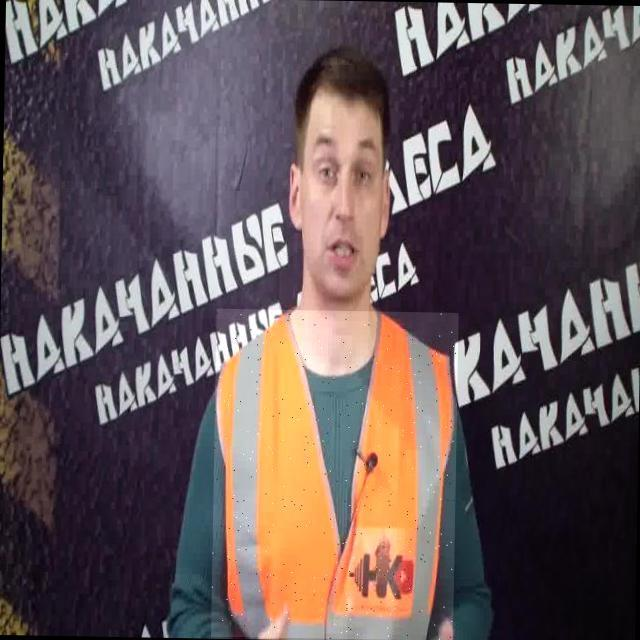Person: (160, 35, 520, 640)
Safety Vest: (211, 308, 459, 640)
no-helmet: (288, 46, 402, 109)
